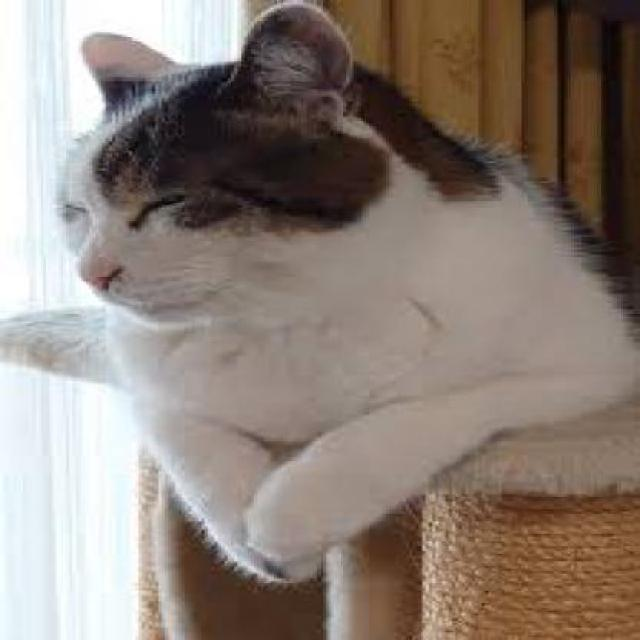cat: (6, 0, 640, 585)
